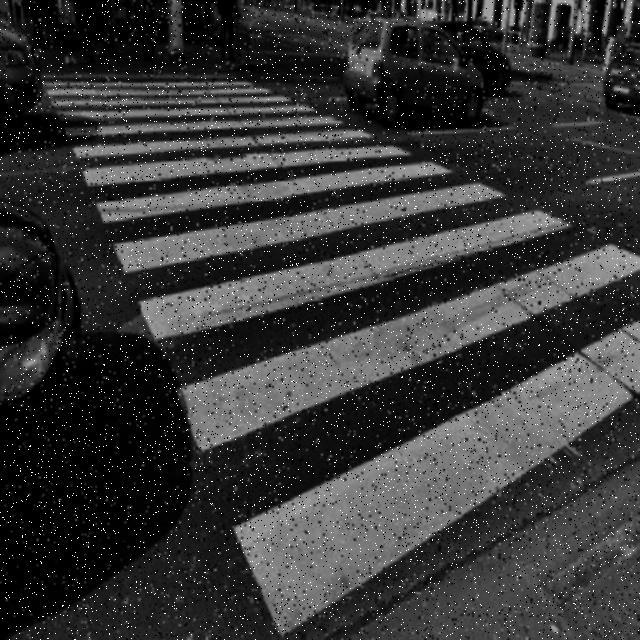crosswalk: (40, 76, 638, 636)
